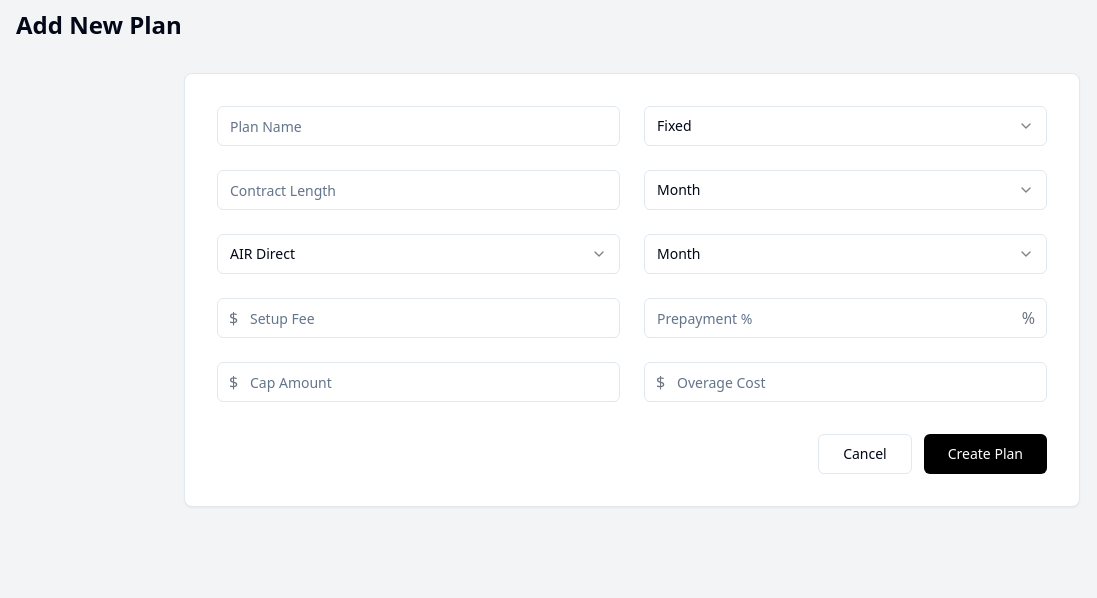
Test: SubscriptionNew › navigates back on create plan with valid data
# Fill in required fields with valid data
Type "Test Plan" into the field with placeholder "Plan Name". click: coordinates (418, 126)
box: [217,106,620,146]
Type "12" into the number field with placeholder "Contract Length". click: coordinates (418, 190)
box: [217,170,620,210]
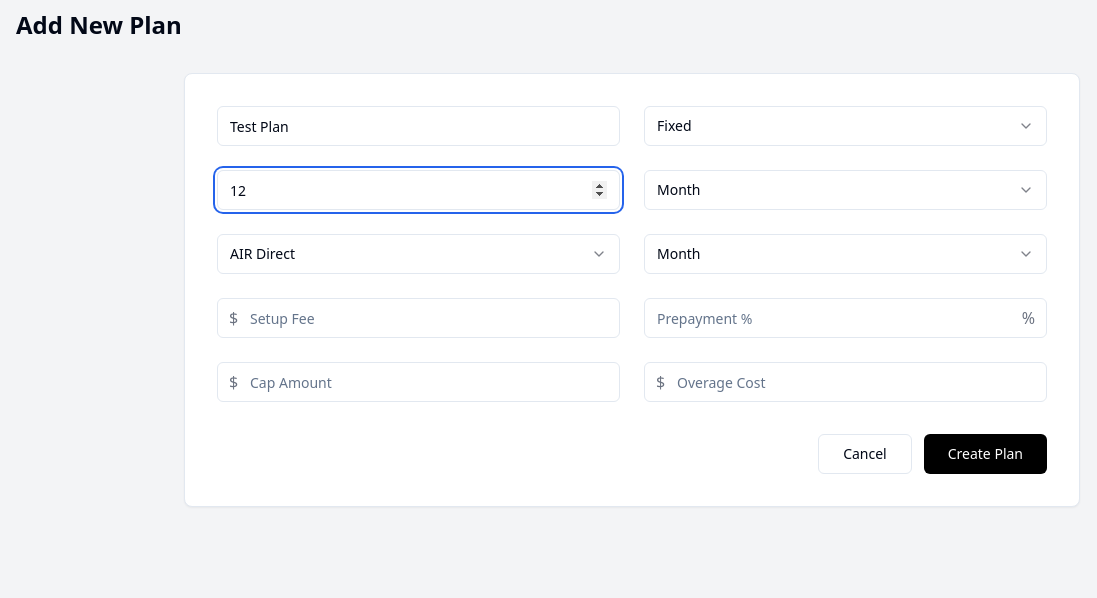
Type "1000" into the number field with placeholder "Setup Fee". click: coordinates (418, 318)
box: [217,298,620,338]
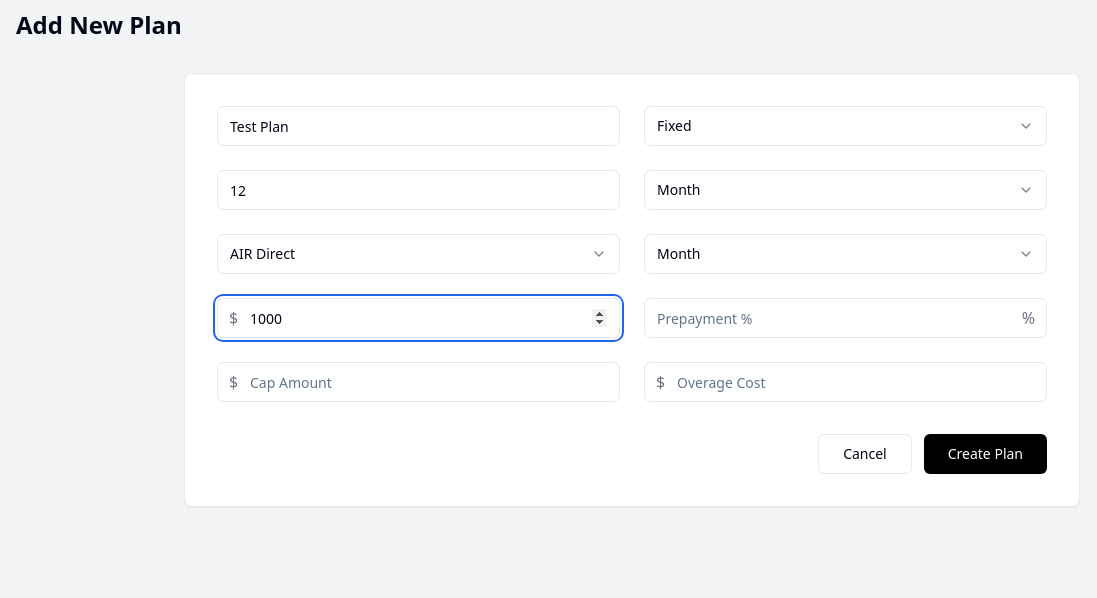
Type "25" into the number field with placeholder "Prepayment %". click: coordinates (846, 318)
box: [644,298,1047,338]
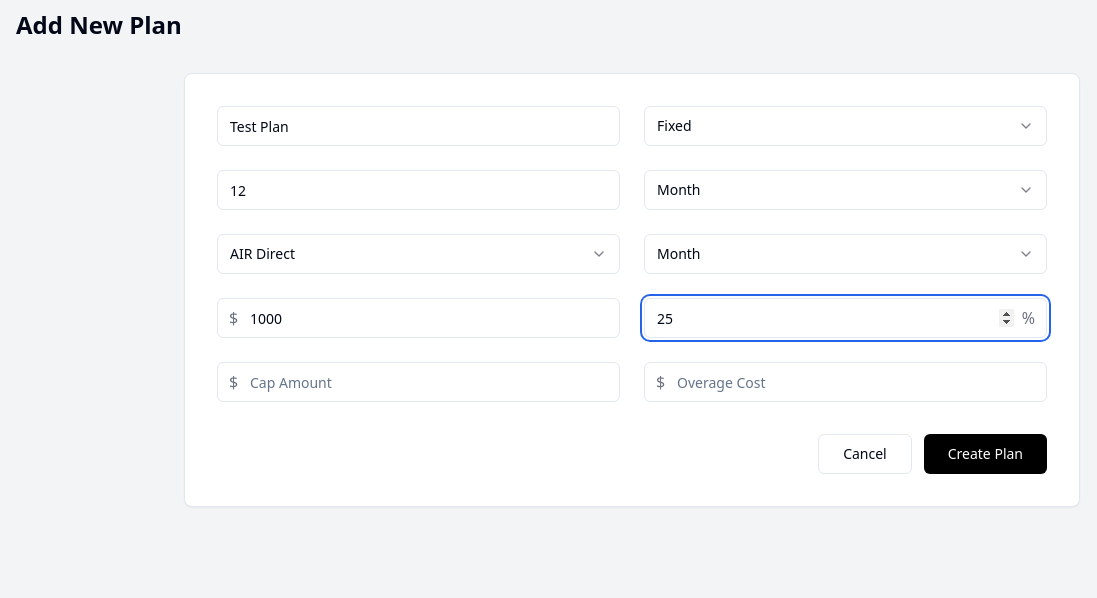
Type "50000" into the number field with placeholder "Cap Amount". click: coordinates (418, 382)
box: [217,362,620,402]
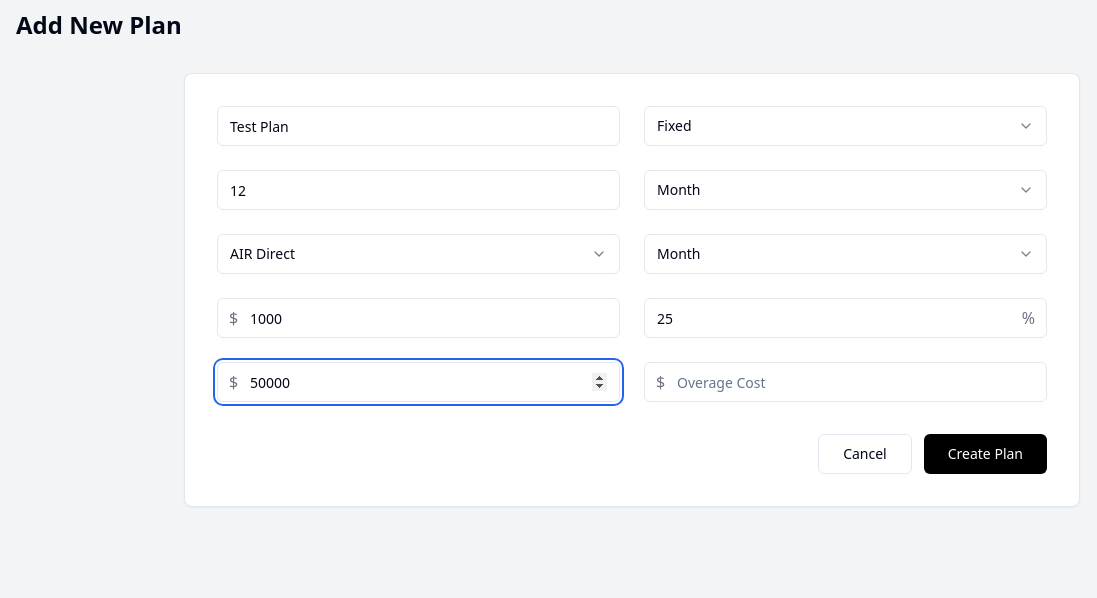
Type "150" into the number field with placeholder "Overage Cost". click: coordinates (846, 382)
box: [644,362,1047,402]
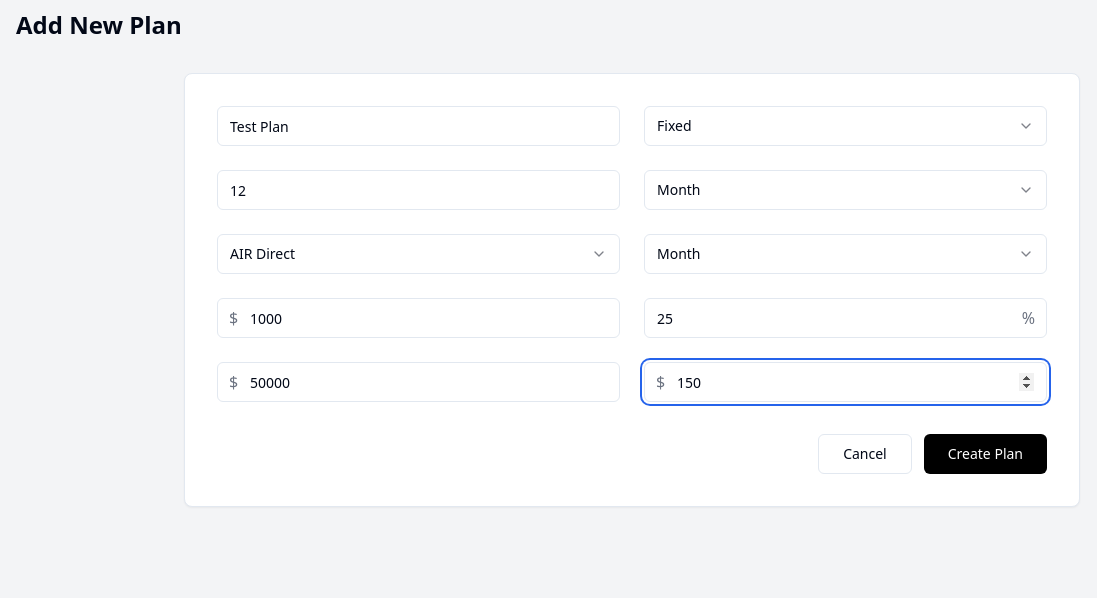
Click the button "Create Plan". click: coordinates (985, 454)
box: [924,434,1047,474]
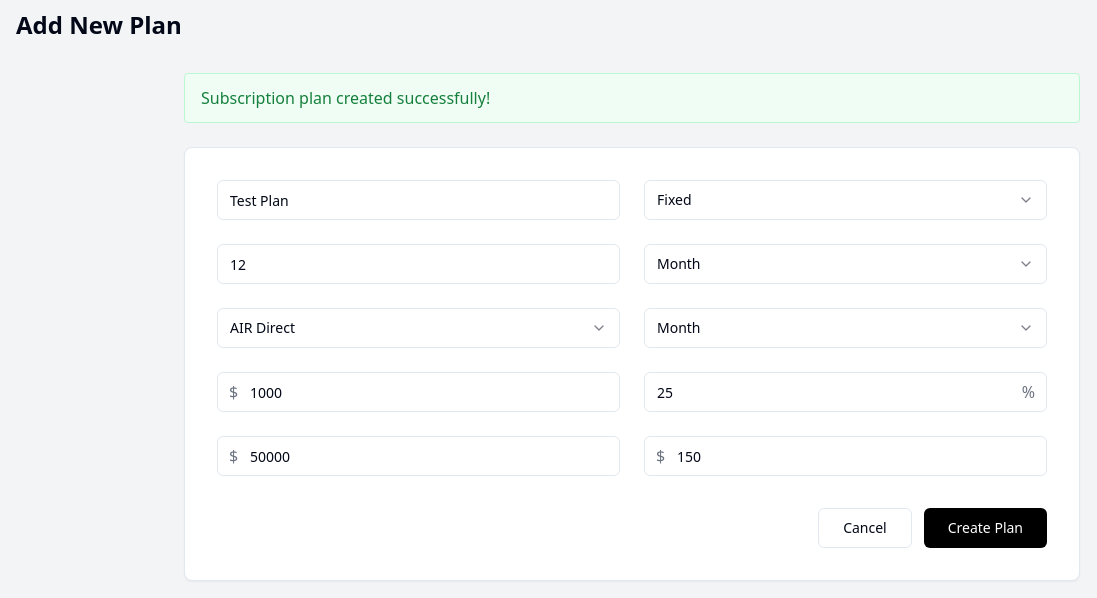
Expected: the text "Subscription plan created successfully!" is shown, [184,73,1080,123]
